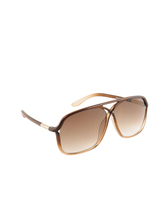glasses: (22, 95, 154, 156)
